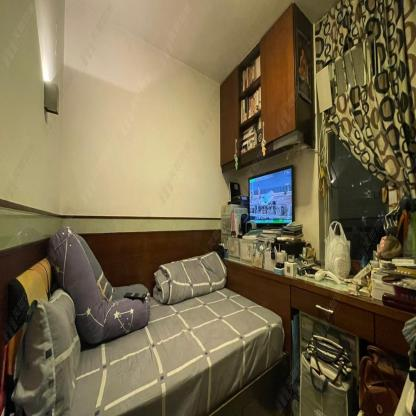Bed: (0, 225, 285, 416)
